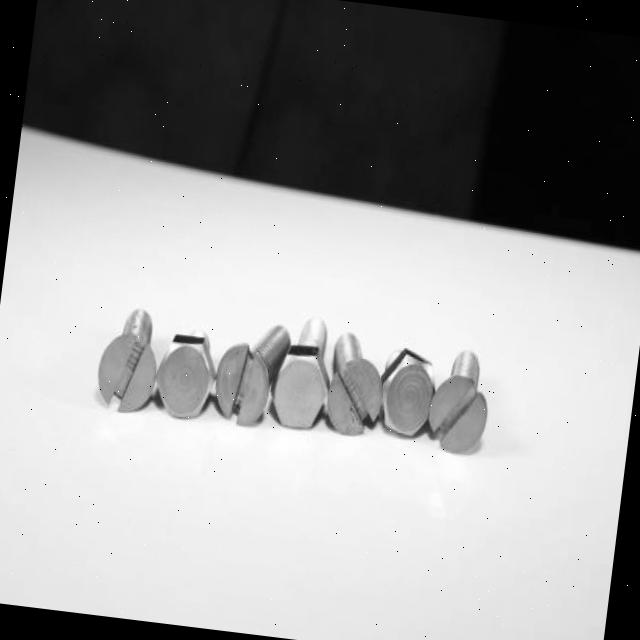Slotted: (422, 363, 496, 462), (86, 327, 162, 418), (206, 334, 272, 436), (319, 350, 382, 442)
